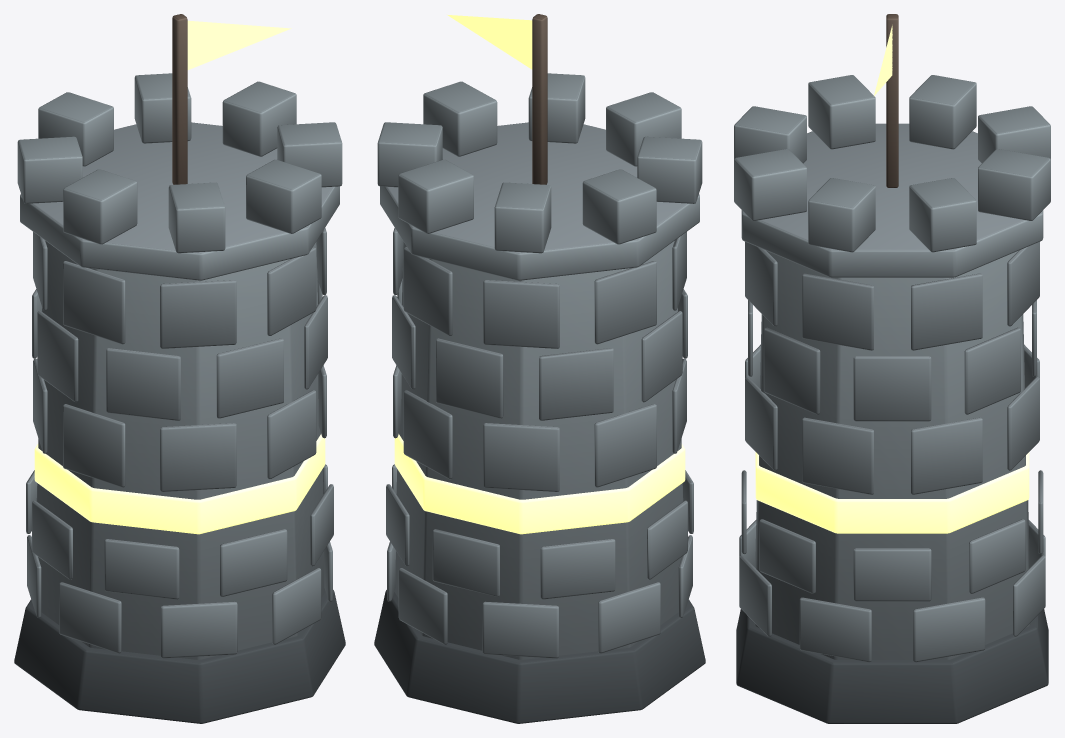
Rendered from castle_tower_b.glb.
3 views of the same model, side by side, from view 1: azimuth 30°, elevation 25°; view 2: azimuth 150°, elevation 25°; view 3: azimuth 270°, elevation 25° (orthographic).
Visible parts, largest first — view 1: castle_tower_b; view 2: castle_tower_b; view 3: castle_tower_b.
Part boxes in pixels (left/top/right/bottom): castle_tower_b: left=14, top=14, right=345, bottom=723; castle_tower_b: left=374, top=14, right=705, bottom=723; castle_tower_b: left=734, top=14, right=1050, bottom=723.
Bounding box in the file's own units: 2.52 × 5.65 × 2.52.
Materials: 2 (1 with a texture image).
